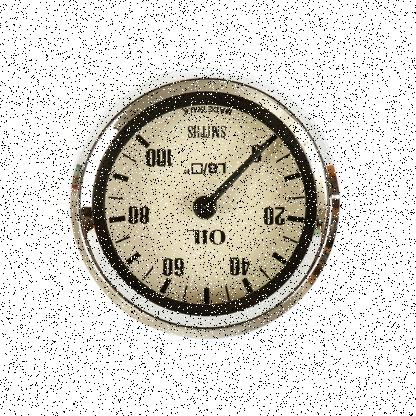needle: (207, 139, 271, 204)
